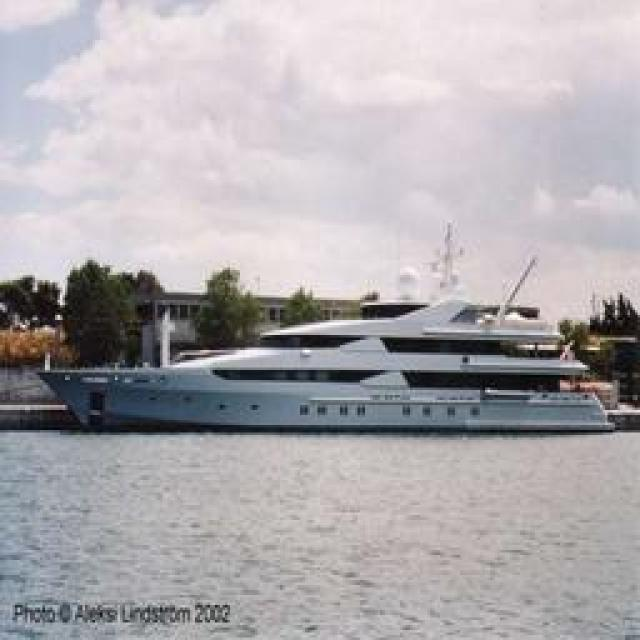CIV_Ship: (41, 252, 604, 432)
